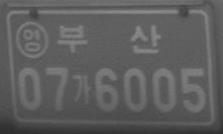0: (150, 67, 176, 115), (123, 67, 148, 113), (17, 66, 43, 110)
5: (179, 67, 207, 114)
6: (94, 66, 119, 112)
7: (45, 66, 70, 111)
가: (71, 73, 91, 105)
부산_D: (57, 23, 162, 54)
영: (16, 20, 49, 59)
